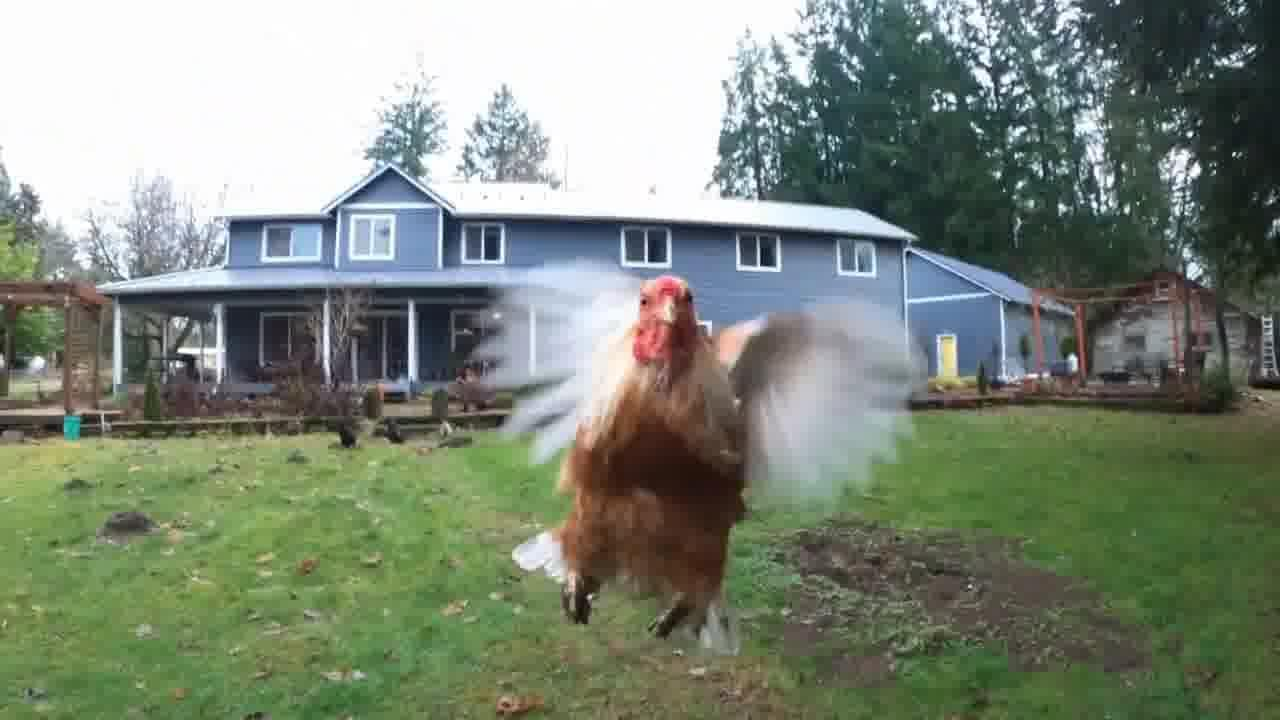Normal: (510, 234, 890, 628)
